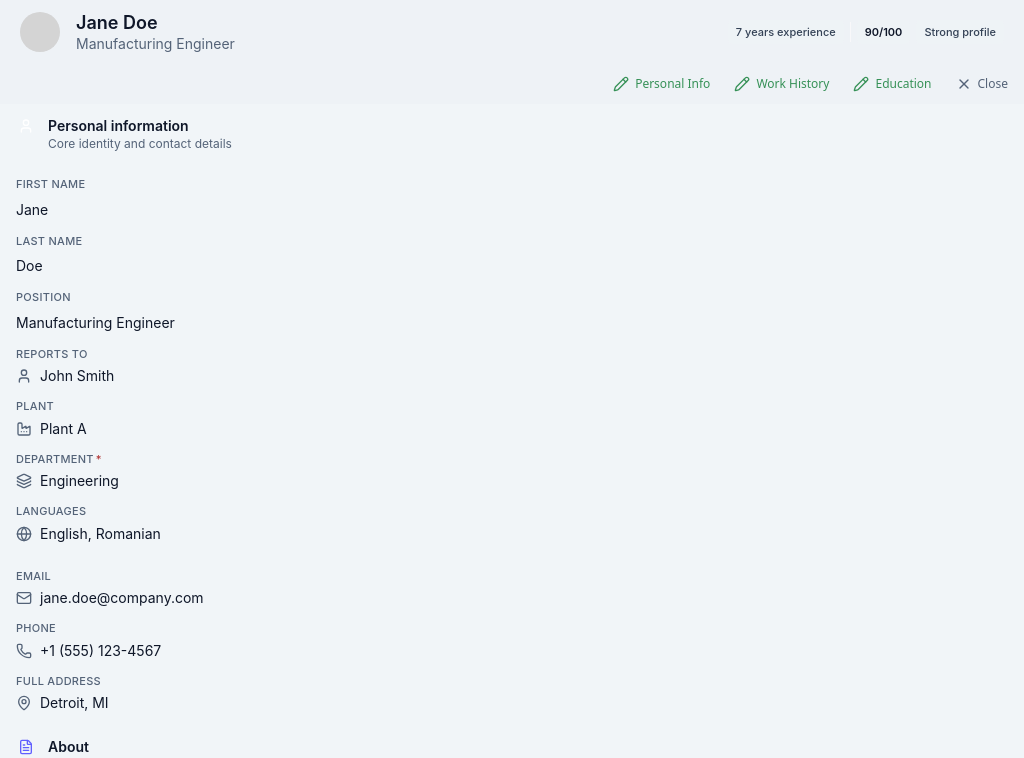
Scenario: UserProfilePage — integration › cancel editing › returns to view mode when Cancel is clicked
Step 1. Click the button "Personal Info" → {"x": 662, "y": 84}, box x1=605 y1=68 x2=718 y2=100
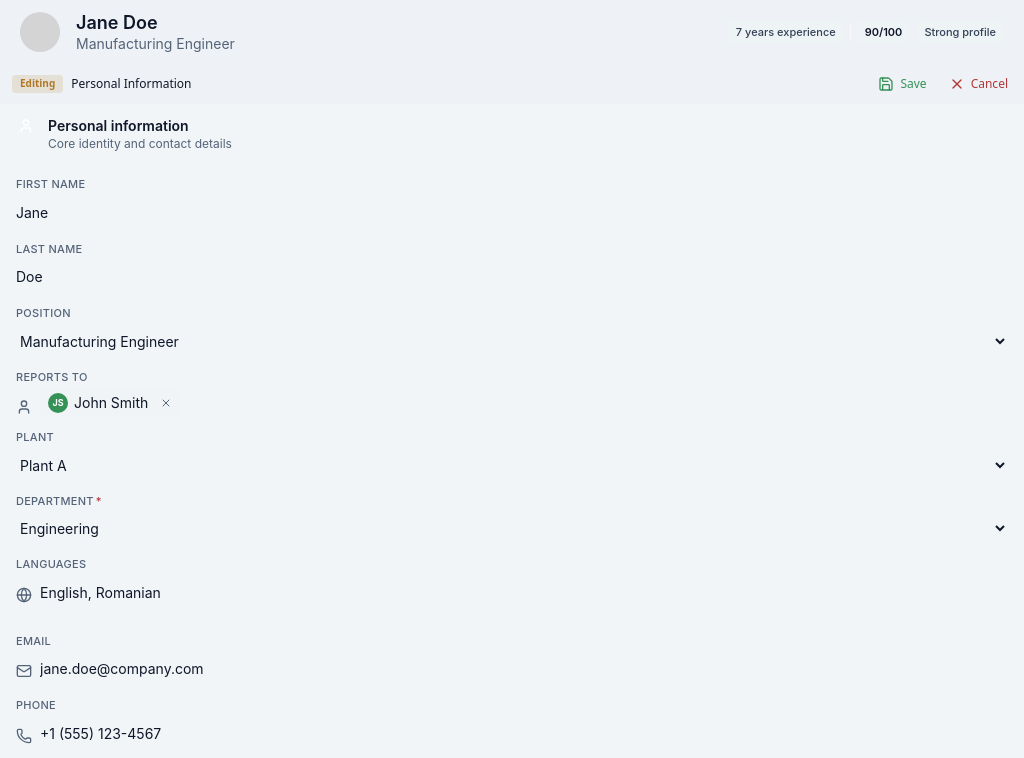
expect the text "Save" is shown: met, box x1=900 y1=76 x2=927 y2=92
Step 2. Click the button "Cancel" → {"x": 978, "y": 84}, box x1=941 y1=68 x2=1016 y2=100
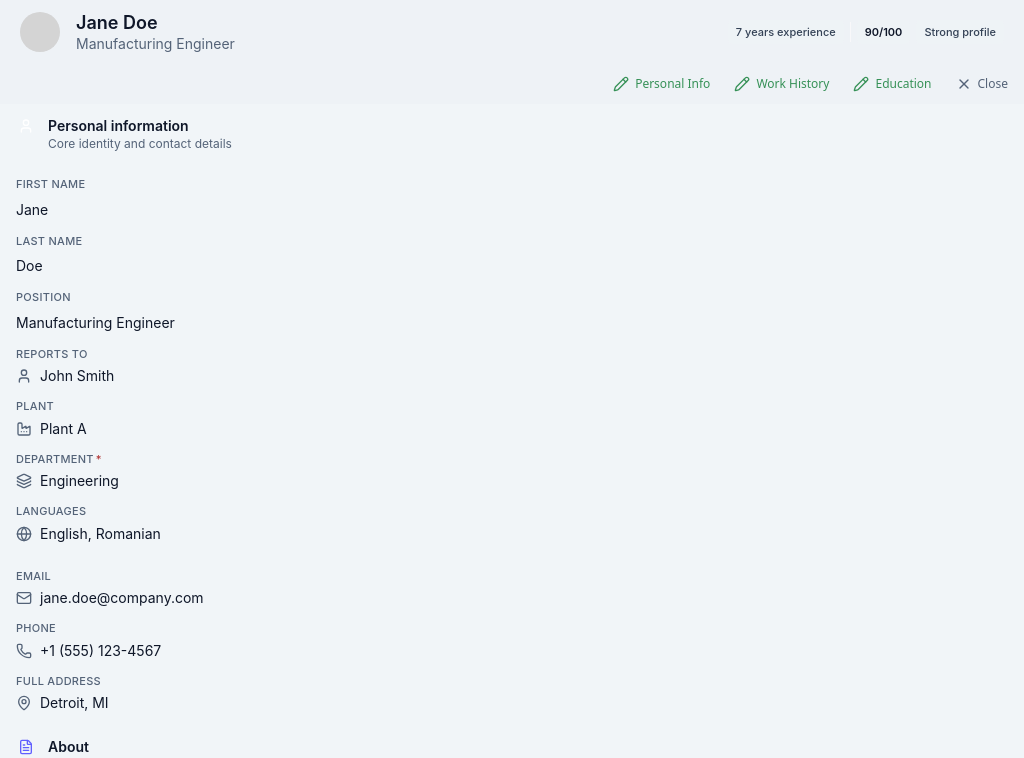
expect the text "Personal Info" is shown: met, box x1=635 y1=76 x2=710 y2=92
expect the button "Save" is gone: met
